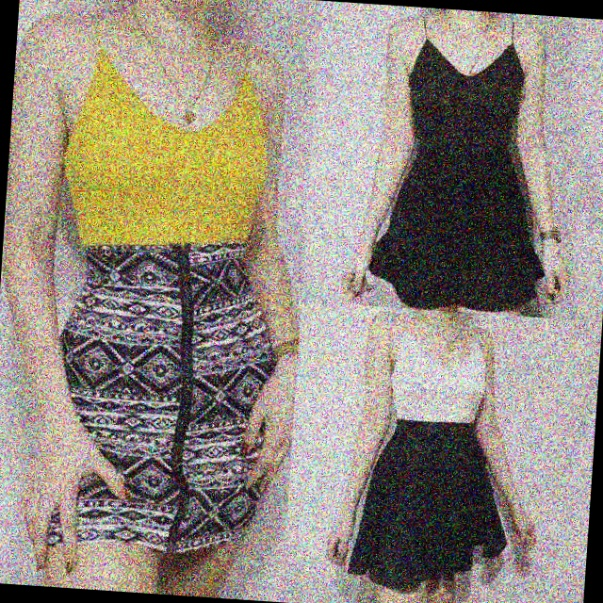Miniskirt: (36, 229, 286, 601), (342, 416, 517, 603)
Sleeveless: (13, 5, 97, 106), (239, 44, 289, 118), (510, 20, 550, 69), (386, 14, 426, 58), (365, 309, 399, 346), (471, 326, 498, 364)
low_neckline: (55, 9, 279, 255), (404, 14, 529, 151), (380, 313, 493, 425)
